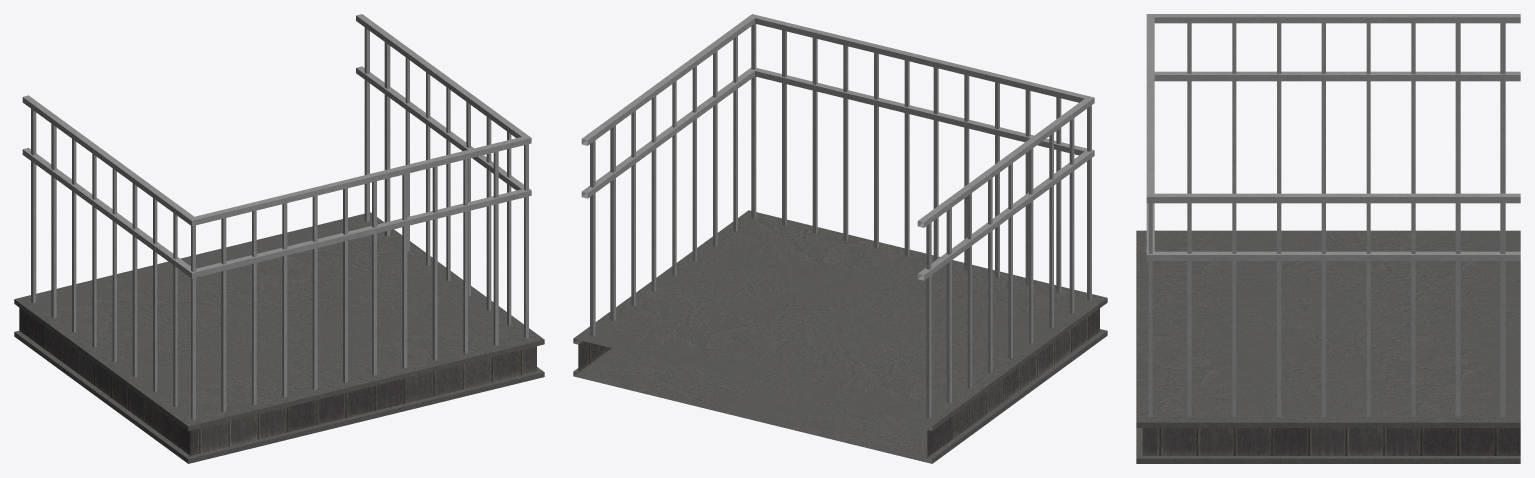
Rendered from Sm_Balcony.fbx.
3 renders of one model, left to right at view 1: azimuth 30°, elevation 25°; view 2: azimuth 150°, elevation 25°; view 3: azimuth 270°, elevation 25°, orthographic. The views are drawn at different scales.
Parts seen in each view (by area): view 1: Sm_Balcony; view 2: Sm_Balcony; view 3: Sm_Balcony.
Part boxes in pixels (box(x1,y1,x2,y2)): Sm_Balcony: box(14, 14, 544, 463); Sm_Balcony: box(573, 14, 1107, 463); Sm_Balcony: box(1136, 14, 1520, 463).
Bounding box in the file's own units: 229 × 194 × 146.
3 materials, 3 textured.
